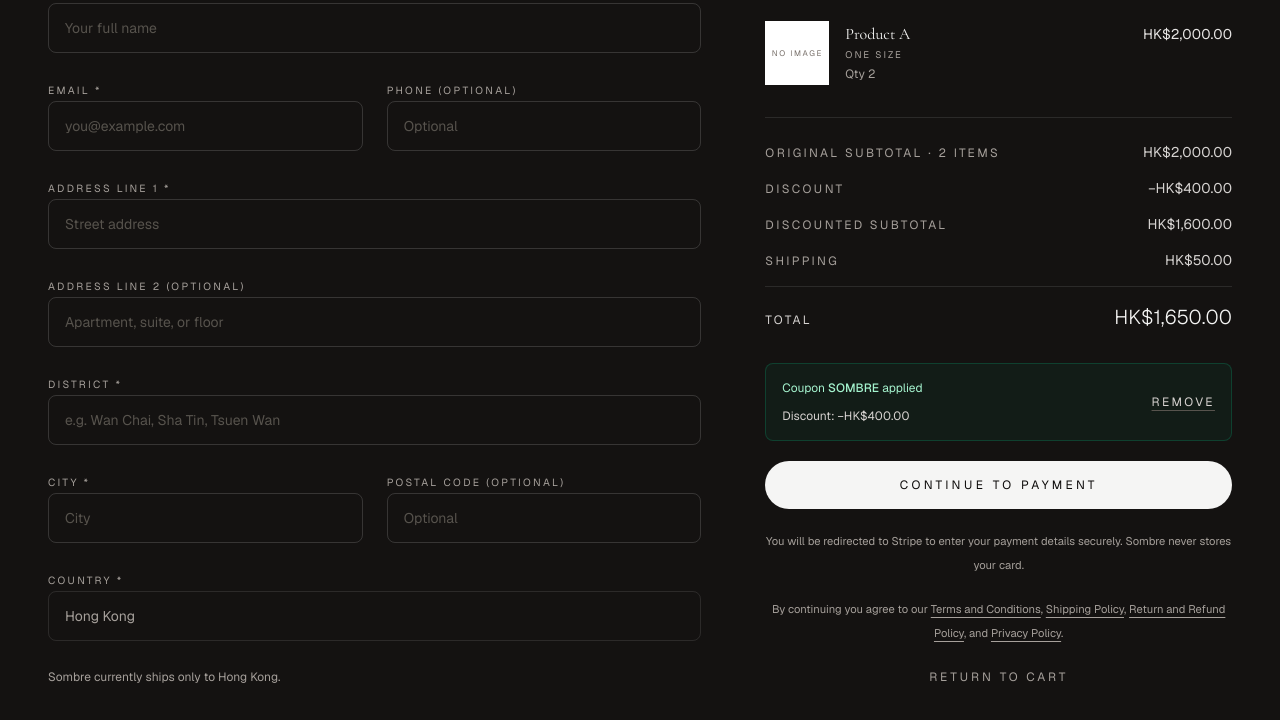
Test case: Checkout coupon revalidation › removes a revalidated coupon and restores normal totals
The width and height of the screenshot is (1280, 720).
(page scrolled)
What coordinates should you click on to do the following:
click the button with aria-label "Remove SOMBRE coupon"
I would click on:
 (1183, 402)
Its box is [1152, 394, 1215, 410].
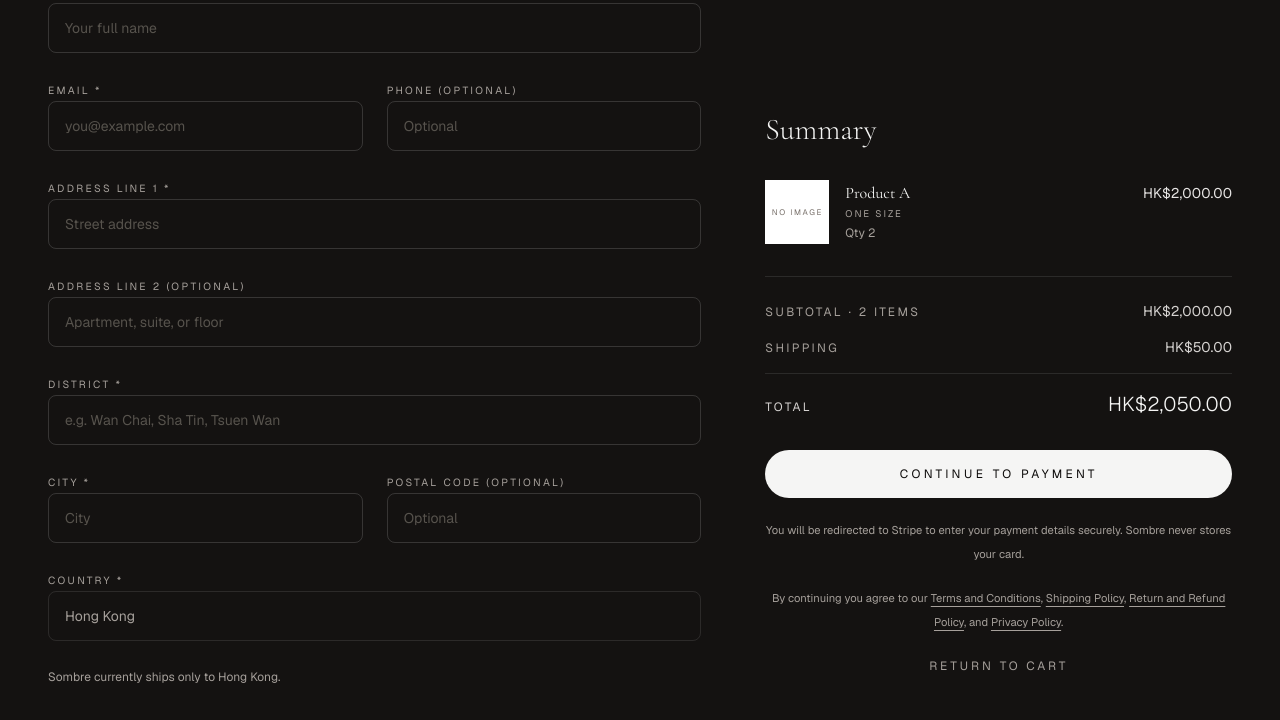
Expected: the text "Subtotal · 2 items" is shown, [765, 304, 920, 320]
Expected: the text "Discount" is gone
Expected: the text "HK$2,050.00" is shown, [1108, 390, 1232, 418]
